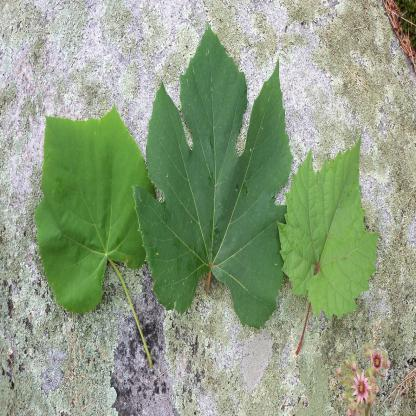grape leaf black rot: (133, 25, 308, 324), (29, 86, 154, 316), (275, 132, 393, 325)
